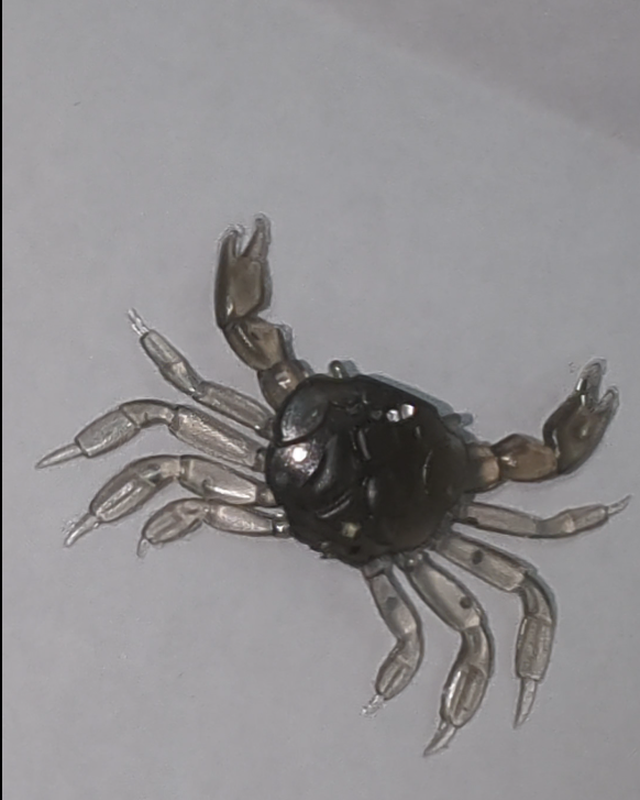crab1: (33, 211, 636, 763)
